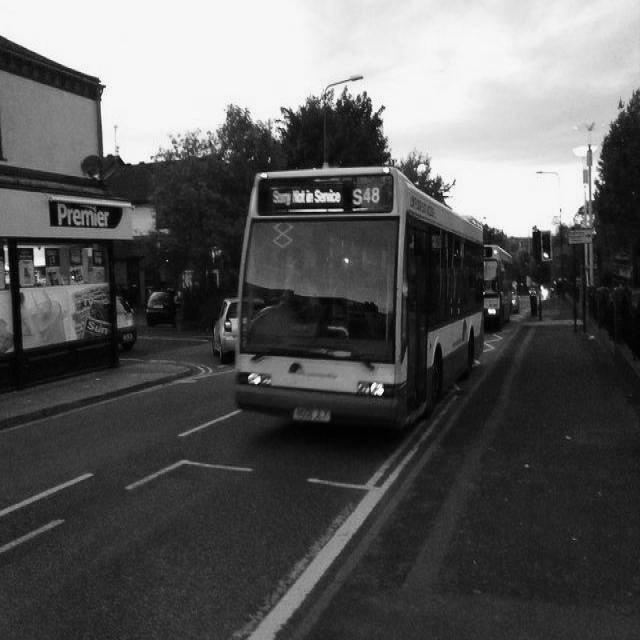vehicle: (235, 163, 485, 431), (484, 240, 514, 329), (212, 297, 238, 364), (146, 288, 184, 328), (115, 298, 137, 352), (511, 286, 519, 314), (529, 288, 537, 294)
